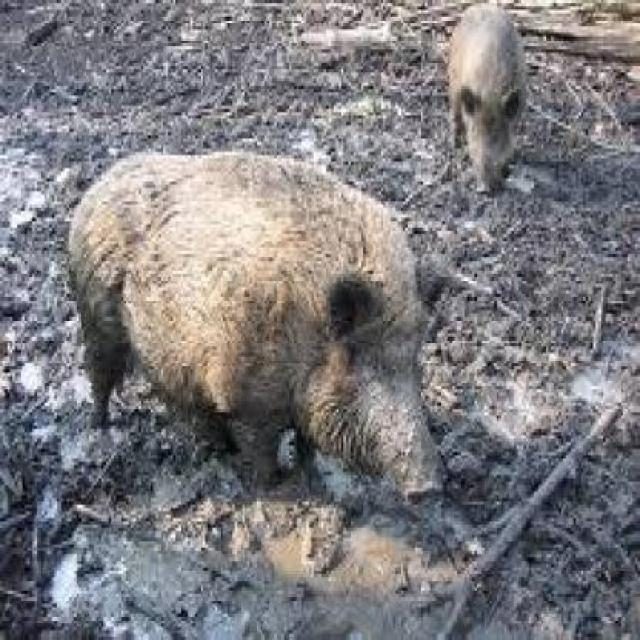wildboar: (58, 140, 450, 512), (440, 0, 537, 209)
